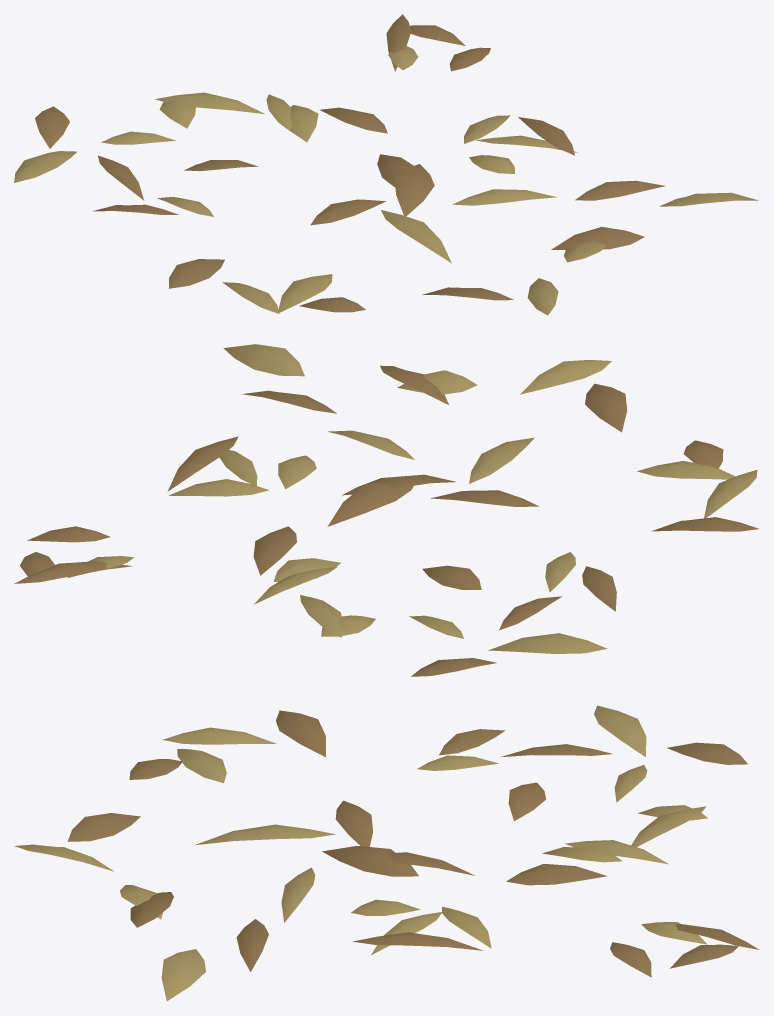
Rendered from ground-leaf-litter-080.glb.
The picture shows the model from 3 angles, top to bottom: view 1: azimuth 30°, elevation 25°; view 2: azimuth 150°, elevation 25°; view 3: azimuth 270°, elevation 25°; orthographic projection. The views are drawn at different scales.
Parts seen in each view (by area): view 1: ground-leaf-litter-080 / N04 / bark ridges, ground-leaf-litter-080 / N09 / dry grass and litter; view 2: ground-leaf-litter-080 / N09 / dry grass and litter, ground-leaf-litter-080 / N04 / bark ridges; view 3: ground-leaf-litter-080 / N04 / bark ridges, ground-leaf-litter-080 / N09 / dry grass and litter.
Boxes of the visible parts, x1,y1,x2,y2 form: ground-leaf-litter-080 / N04 / bark ridges: (35, 14, 664, 312); ground-leaf-litter-080 / N09 / dry grass and litter: (14, 46, 758, 315); ground-leaf-litter-080 / N09 / dry grass and litter: (67, 344, 757, 653); ground-leaf-litter-080 / N04 / bark ridges: (14, 365, 758, 676); ground-leaf-litter-080 / N04 / bark ridges: (67, 710, 759, 977); ground-leaf-litter-080 / N09 / dry grass and litter: (14, 705, 707, 1001).
Size of the model in its own units: 0.6675 by 0.0166 by 0.7267.
